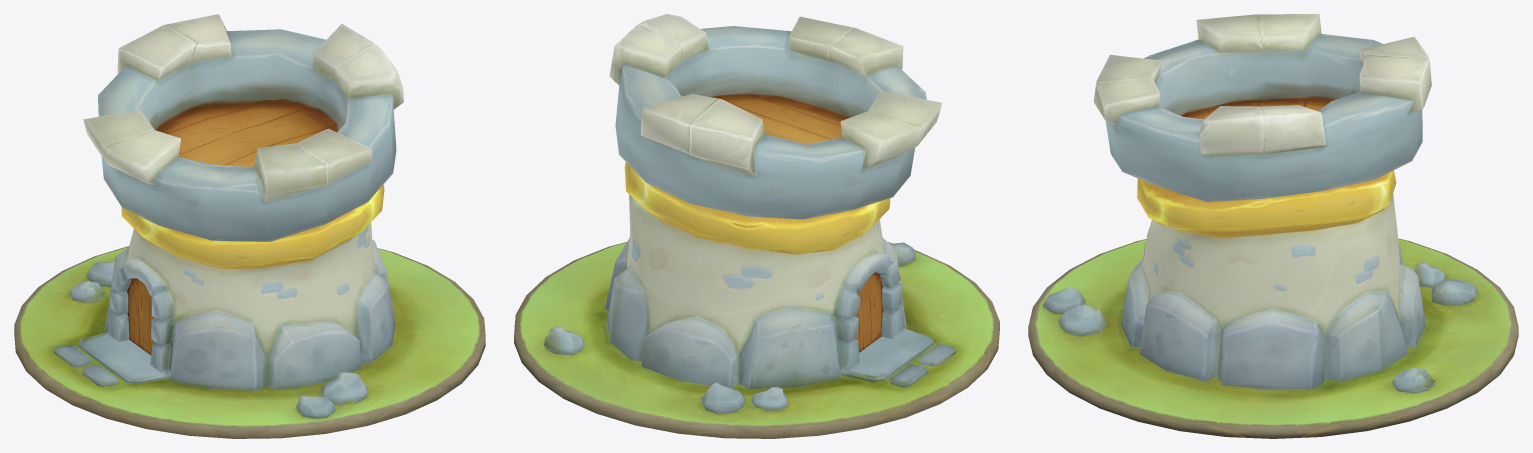
The model's file is Tower.gltf.
3 views of the same model, side by side, from view 1: azimuth 30°, elevation 25°; view 2: azimuth 150°, elevation 25°; view 3: azimuth 270°, elevation 25° (orthographic). The views are drawn at different scales.
Visible parts, largest first — view 1: Tower, Floor; view 2: Tower, Floor; view 3: Tower, Floor.
Part boxes in pixels (x1,y1,x2,y2): Tower: (54, 14, 403, 418); Floor: (14, 246, 485, 438); Tower: (544, 14, 955, 414); Floor: (514, 242, 999, 438); Tower: (1042, 14, 1477, 393); Floor: (1028, 238, 1518, 438).
Bounding box in the file's own units: 3.51 × 2.25 × 3.51.
1 material, 1 textured.
